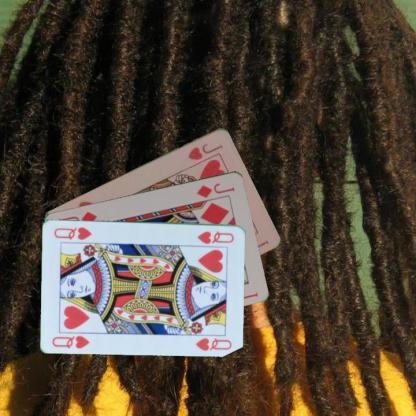Jd: (194, 180, 236, 199)
Jh: (185, 140, 225, 161)
Qh: (50, 332, 90, 350), (195, 228, 236, 245)
